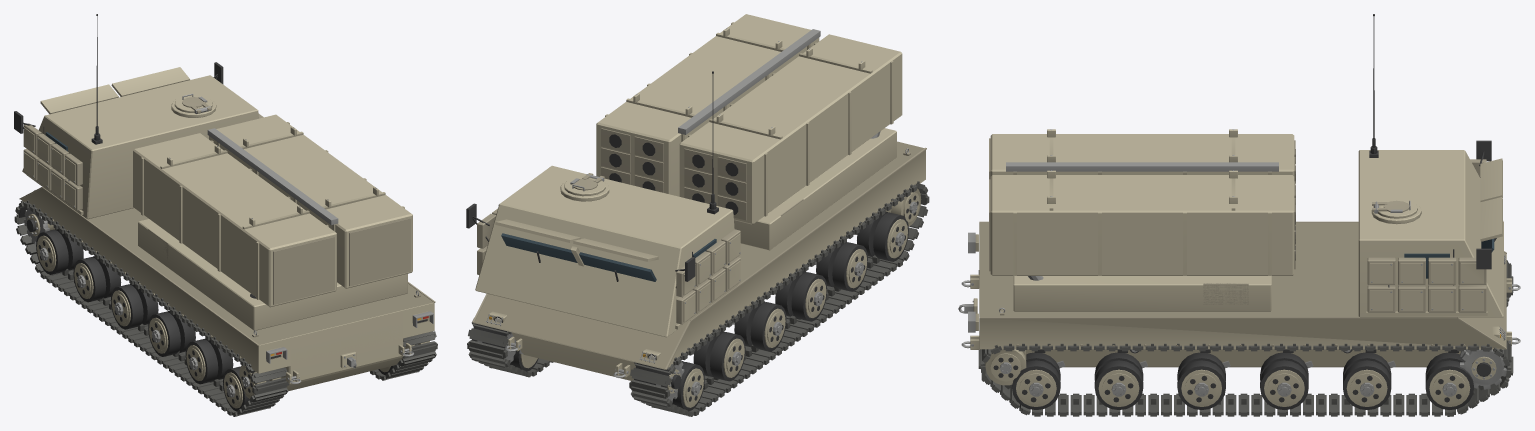
Rendered from usa_mlrs_m270a2.glb.
3 views of the same model, side by side, from view 1: azimuth 30°, elevation 25°; view 2: azimuth 150°, elevation 25°; view 3: azimuth 270°, elevation 25° (orthographic). The views are drawn at different scales.
Parts seen in each view (by area): view 1: body, barrel, turret; view 2: body, barrel, turret; view 3: body, barrel, turret.
Boxes of the visible parts, x1=… form: body: x1=14, y1=14, x2=437, y2=416; barrel: x1=133, y1=114, x2=412, y2=307; turret: x1=138, y1=219, x2=407, y2=330; body: x1=466, y1=71, x2=929, y2=416; barrel: x1=596, y1=14, x2=902, y2=224; turret: x1=734, y1=128, x2=896, y2=250; body: x1=958, y1=14, x2=1520, y2=416; barrel: x1=989, y1=129, x2=1295, y2=275; turret: x1=1013, y1=276, x2=1271, y2=311.
Bounding box in the file's own units: 3.41 × 4.58 × 7.41.
